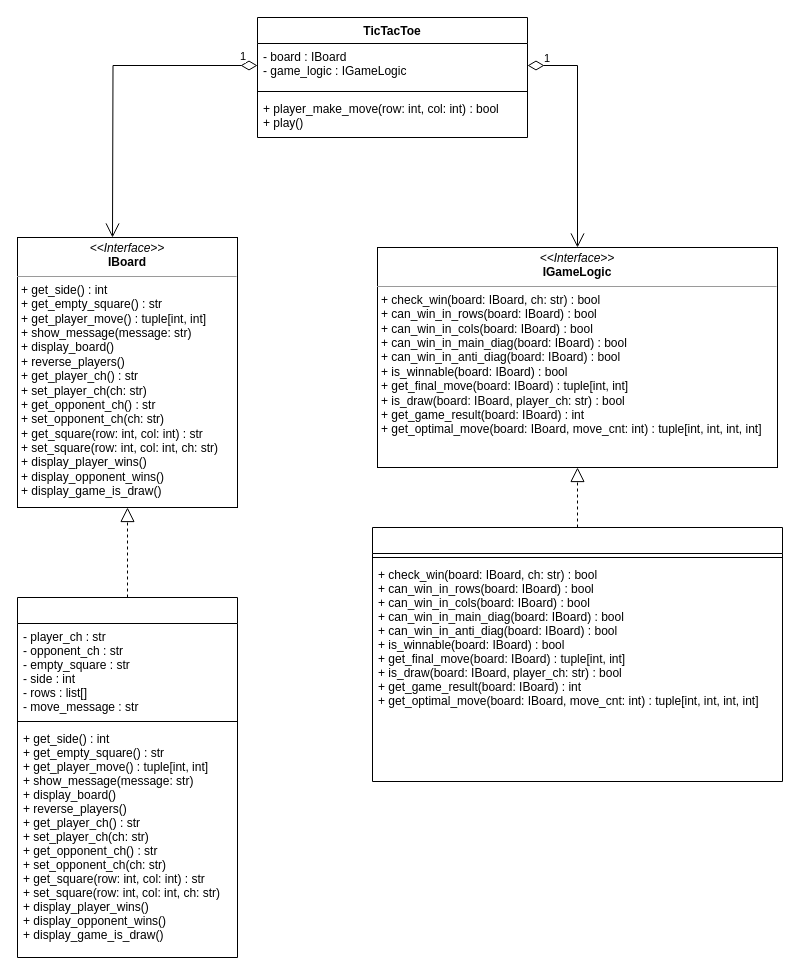
This 800x978 diagram has some shape labels left out. The shapes that lost their labels are listed below. From the top down, each one's box as (x1, y1, x2, y2) in pixels, then its label:
(372, 526, 782, 782): GameLogicRecursive
(16, 596, 238, 958): BoardText
